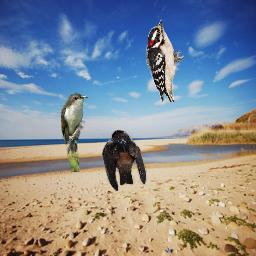Cuckoo: (61, 91, 88, 172)
Swallow: (102, 130, 147, 192)
Woodpecker: (146, 19, 184, 102)
